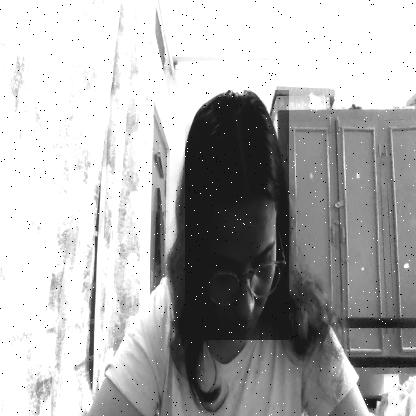Normal: (186, 90, 290, 340)
